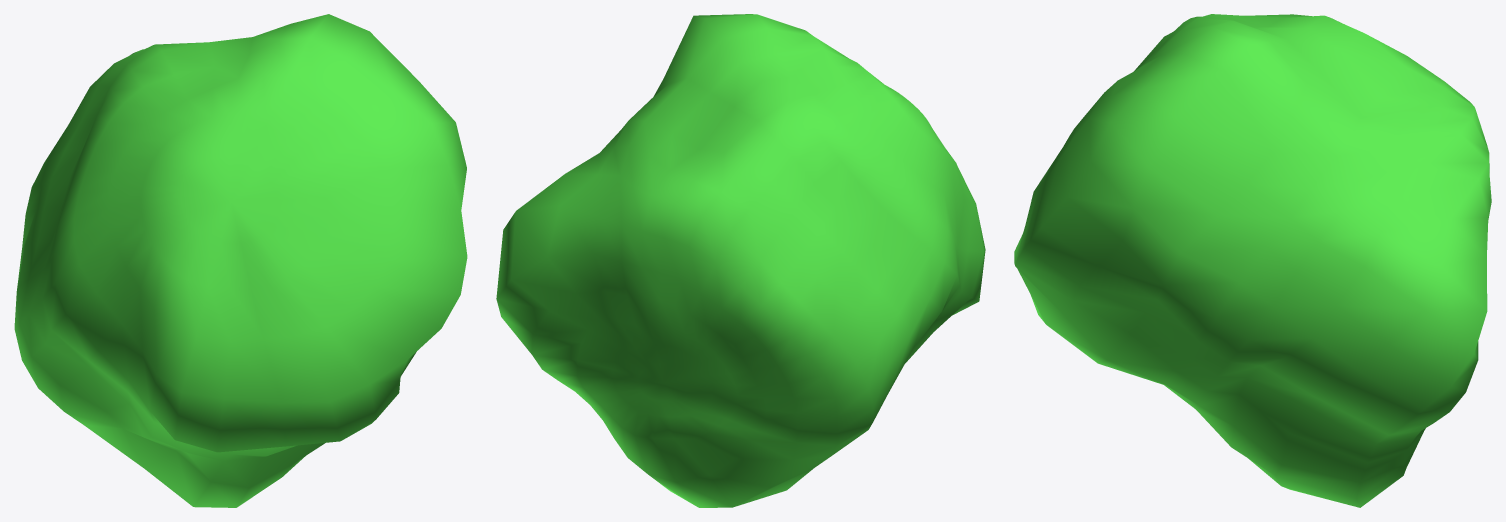
Rendered from folhasdearvore0.fbx.
The picture shows the model from 3 angles, left to right: view 1: azimuth 30°, elevation 25°; view 2: azimuth 150°, elevation 25°; view 3: azimuth 270°, elevation 25°; orthographic projection. The views are drawn at different scales.
Parts seen in each view (by area): view 1: folhasdearvore0; view 2: folhasdearvore0; view 3: folhasdearvore0.
Part boxes in pixels (x1,y1,x2,y2): folhasdearvore0: (14, 14, 467, 507); folhasdearvore0: (496, 14, 985, 507); folhasdearvore0: (1014, 14, 1491, 507).
Size of the model in its own units: 595 by 684 by 618.
